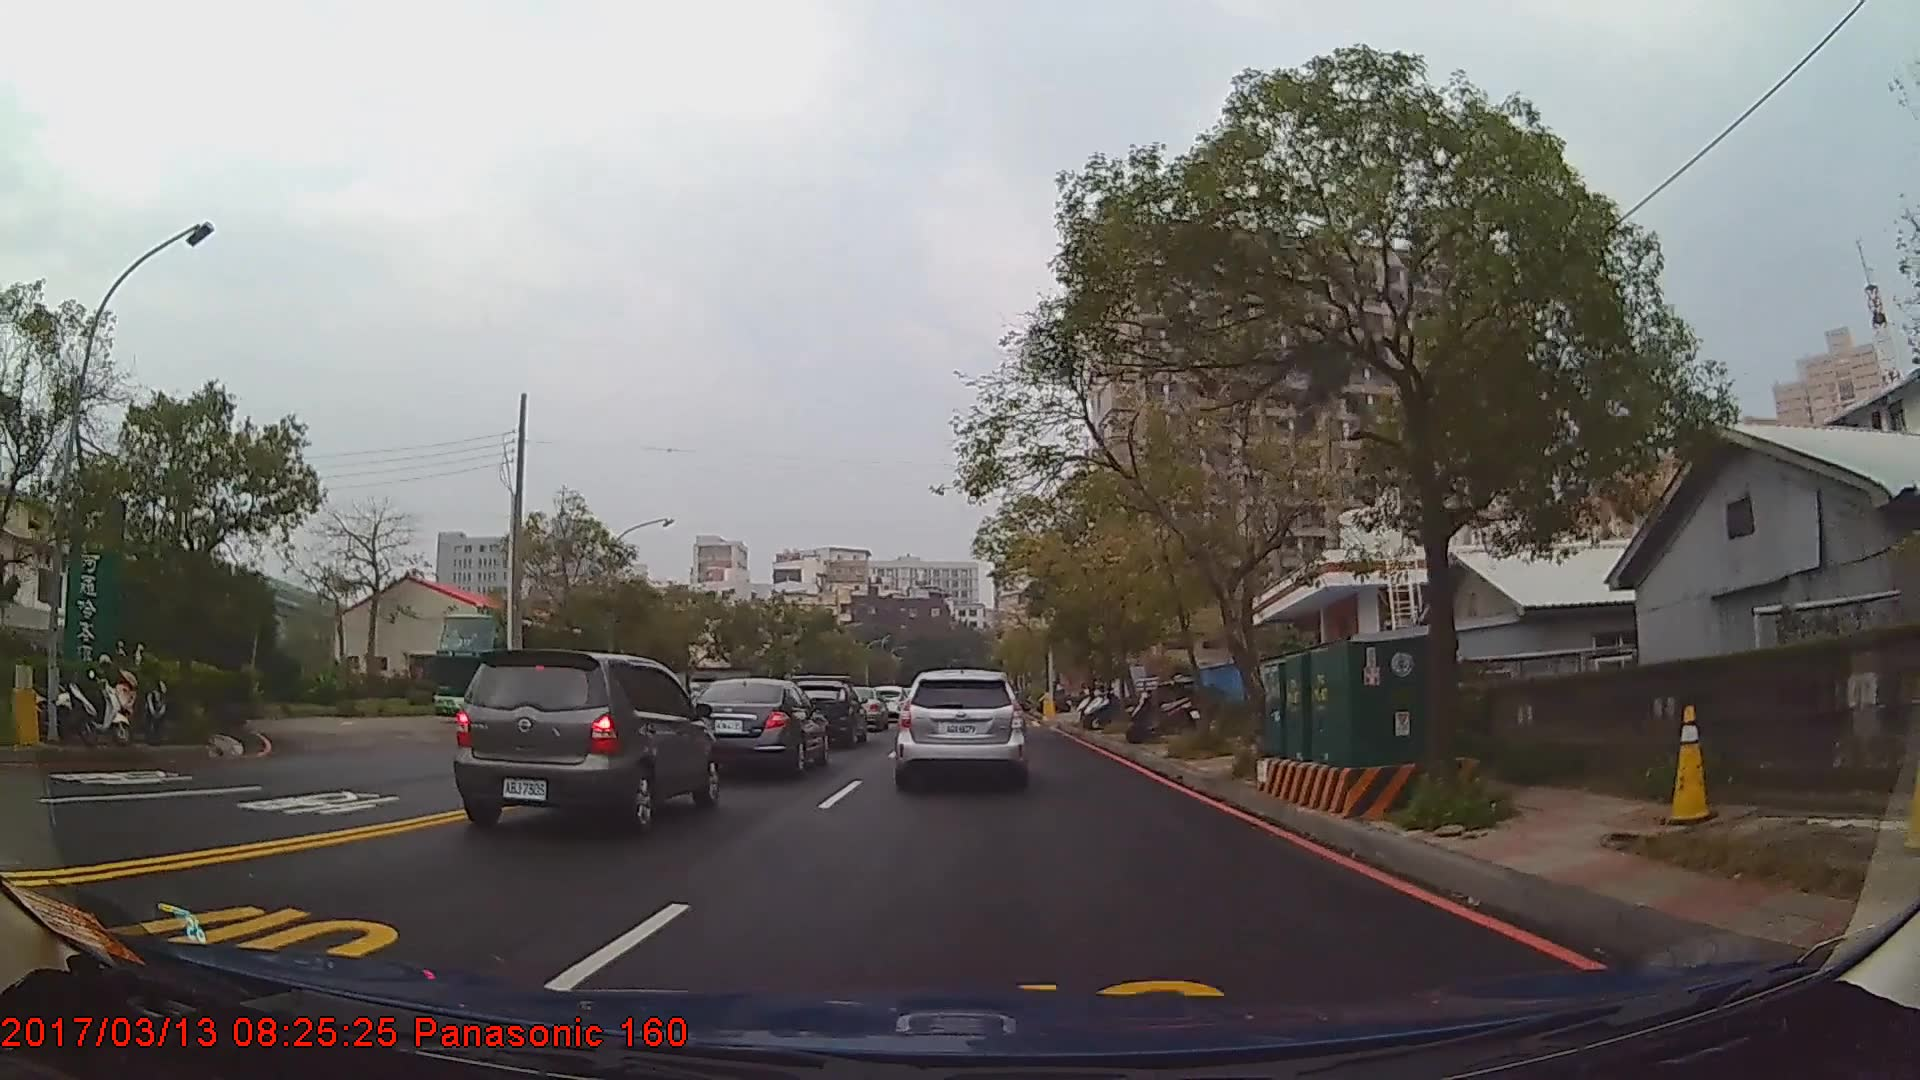vehicle: (450, 653, 721, 843), (436, 612, 608, 725), (895, 670, 1029, 789), (682, 676, 828, 775), (785, 679, 862, 746)
